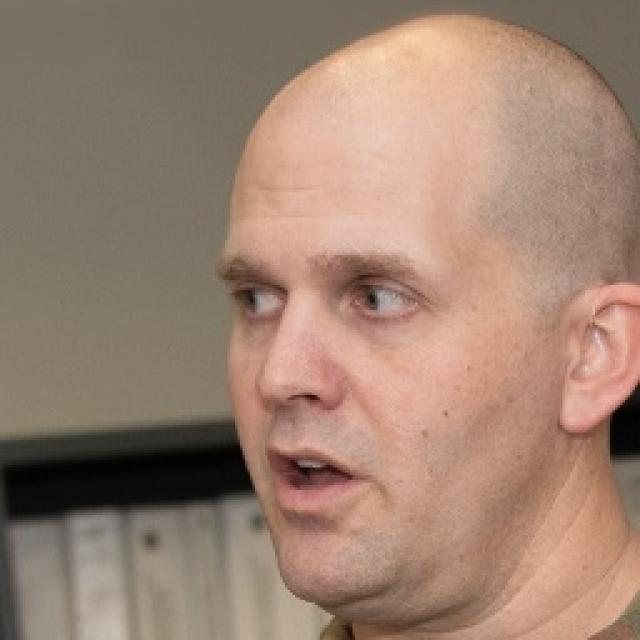no-glasses: (212, 260, 453, 360)
